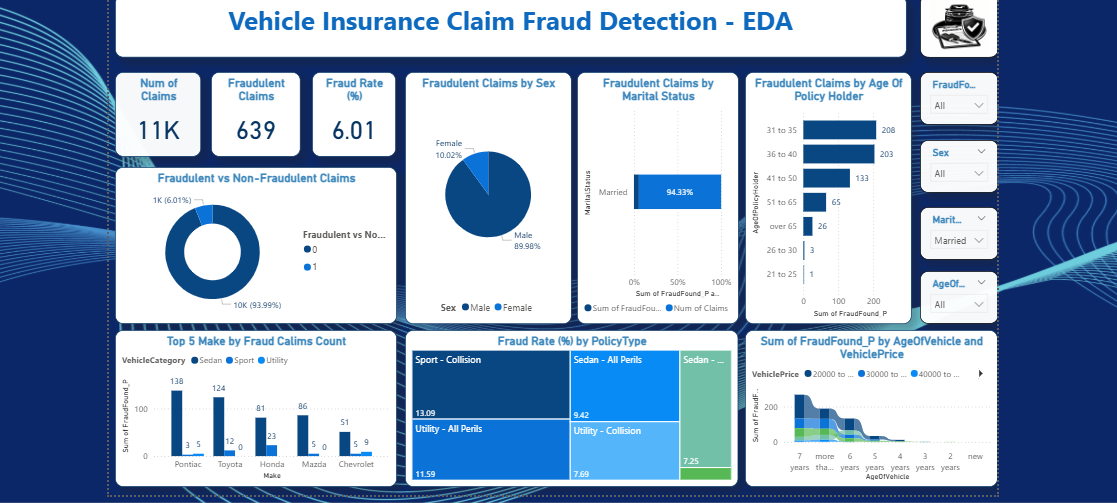

The dashboard page shown, as its layout file describes it:
{"tool":"powerbi","page":{"name":"Page 1","canvas":[1280,720],"ordinal":0},"visuals":[{"type":"textbox","box":[8.1,0,1139.5,89.5],"z":0},{"type":"image","box":[1167.4,0,112.8,89.5],"z":1000},{"type":"card","title":"Num of Claims","fields":{"Values":["vehicle_fraud.Num of Claims"]},"box":[8.1,110.5,124.4,122.1],"z":2000},{"type":"card","title":"Fraudulent Claims","fields":{"Values":["Sum(vehicle_fraud.FraudFound_P)"]},"box":[146.5,110.5,129.1,122.1],"z":3000},{"type":"card","title":"Fraud Rate (%)","fields":{"Values":["vehicle_fraud.Fraud Rate (%)"]},"box":[293,110.5,120.9,122.1],"z":4000},{"type":"donutChart","title":" Fraudulent vs Non-Fraudulent Claims ","fields":{"Category":["vehicle_fraud.FraudFound_P"],"Y":["vehicle_fraud.Num of Claims"]},"box":[8.1,247.7,405.8,225.6],"z":5000},{"type":"pieChart","title":" Fraudulent  Claims  by Sex","fields":{"Category":["vehicle_fraud.Sex"],"Y":["Sum(vehicle_fraud.FraudFound_P)"]},"box":[425.6,110.5,239.5,362.8],"z":6000},{"type":"hundredPercentStackedBarChart","title":" Fraudulent  Claims  by Marital Status","fields":{"Category":["vehicle_fraud.MaritalStatus"],"Y":["Sum(vehicle_fraud.FraudFound_P)","vehicle_fraud.Num of Claims"]},"box":[673.3,110.5,232.6,362.8],"z":7000},{"type":"clusteredBarChart","title":" Fraudulent  Claims  by Age Of Policy Holder","fields":{"Category":["vehicle_fraud.AgeOfPolicyHolder"],"Y":["Sum(vehicle_fraud.FraudFound_P)"]},"box":[916.3,110.5,239.5,362.8],"z":8000},{"type":"slicer","fields":{"Values":["vehicle_fraud.FraudFound_P"]},"box":[1167.4,110.5,112.8,75.6],"z":9000},{"type":"slicer","fields":{"Values":["vehicle_fraud.Sex"]},"box":[1167.4,209.3,112.8,75.6],"z":10000},{"type":"slicer","fields":{"Values":["vehicle_fraud.MaritalStatus"]},"box":[1167.4,305.8,112.8,75.6],"z":11000},{"type":"slicer","fields":{"Values":["vehicle_fraud.AgeOfPolicyHolder"]},"box":[1167.4,397.7,112.8,75.6],"z":12000},{"type":"clusteredColumnChart","title":" Top 5 Make by Fraud Calims Count","fields":{"Category":["vehicle_fraud.Make"],"Y":["Sum(vehicle_fraud.FraudFound_P)"],"Series":["vehicle_fraud.VehicleCategory"]},"box":[9.3,482.6,405.8,225.6],"z":13000},{"type":"treemap","fields":{"Group":["vehicle_fraud.PolicyType"],"Values":["vehicle_fraud.Fraud Rate (%)"]},"box":[426.2,482.5,480,226.2],"z":14000},{"type":"ribbonChart","fields":{"Category":["vehicle_fraud.AgeOfVehicle"],"Y":["Sum(vehicle_fraud.FraudFound_P)"],"Series":["vehicle_fraud.VehiclePrice"]},"box":[916.2,482.5,363.8,226.2],"z":14001}]}

Visuals, with their boxes on the page's 1280x720 design canvas (x1, y1, x2, y2). These are canvas units, not pixel positions in the 1117x503 screenshot, which may show the page scaled, cropped or inside an application window:
textbox: 8, 0, 1148, 90
image: 1167, 0, 1280, 90
"Num of Claims" card: 8, 110, 132, 233
"Fraudulent Claims" card: 146, 110, 276, 233
"Fraud Rate (%)" card: 293, 110, 414, 233
" Fraudulent vs Non-Fraudulent Claims " donutChart: 8, 248, 414, 473
" Fraudulent  Claims  by Sex" pieChart: 426, 110, 665, 473
" Fraudulent  Claims  by Marital Status" hundredPercentStackedBarChart: 673, 110, 906, 473
" Fraudulent  Claims  by Age Of Policy Holder" clusteredBarChart: 916, 110, 1156, 473
slicer - vehicle_fraud.FraudFound_P: 1167, 110, 1280, 186
slicer - vehicle_fraud.Sex: 1167, 209, 1280, 285
slicer - vehicle_fraud.MaritalStatus: 1167, 306, 1280, 381
slicer - vehicle_fraud.AgeOfPolicyHolder: 1167, 398, 1280, 473
" Top 5 Make by Fraud Calims Count" clusteredColumnChart: 9, 483, 415, 708
treemap - vehicle_fraud.PolicyType x vehicle_fraud.Fraud Rate (%): 426, 482, 906, 709
ribbonChart - vehicle_fraud.AgeOfVehicle x Sum(vehicle_fraud.FraudFound_P): 916, 482, 1280, 709
